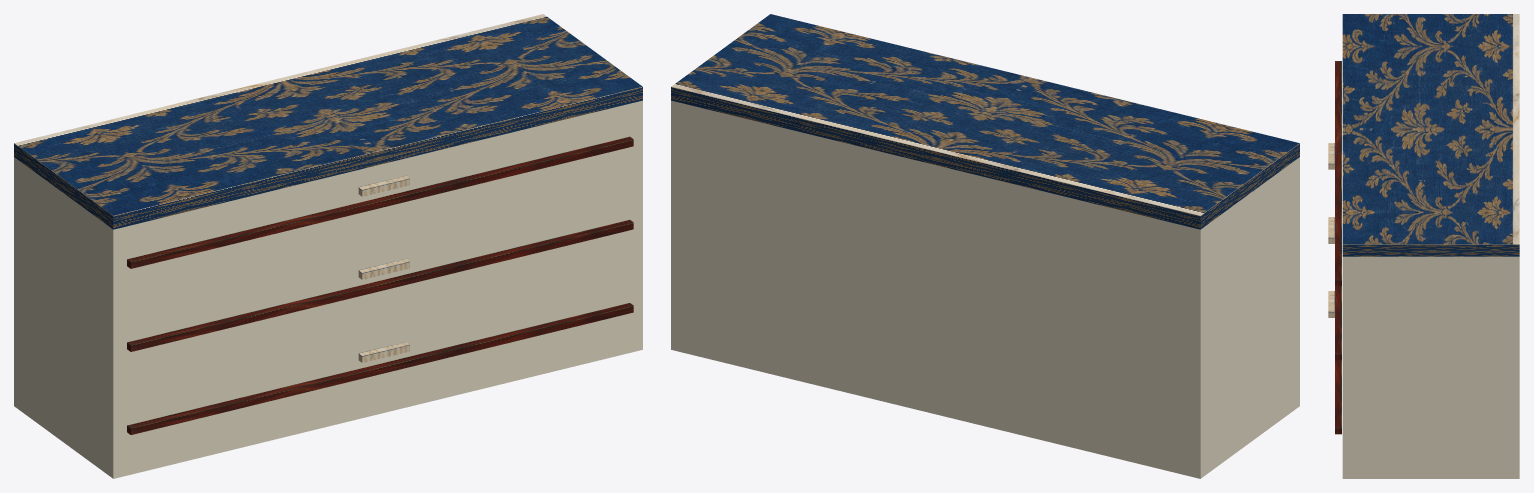
Rendered from kitchen-counter.gltf.
The picture shows the model from 3 angles, left to right: view 1: azimuth 30°, elevation 25°; view 2: azimuth 150°, elevation 25°; view 3: azimuth 270°, elevation 25°; orthographic projection. The views are drawn at different scales.
Parts seen in each view (by area): view 1: kit:0:furniture:ivory:, kit:0:furniture:marble:, kit:0:furniture:bronze:, kit:0:furniture:gold:; view 2: kit:0:furniture:ivory:, kit:0:furniture:marble:; view 3: kit:0:furniture:marble:, kit:0:furniture:ivory:, kit:0:furniture:bronze:, kit:0:furniture:gold:.
Boxes of the visible parts, x1=… form: kit:0:furniture:ivory:: x1=14, y1=100, x2=642, y2=478; kit:0:furniture:marble:: x1=14, y1=14, x2=642, y2=229; kit:0:furniture:bronze:: x1=127, y1=136, x2=633, y2=434; kit:0:furniture:gold:: x1=358, y1=175, x2=409, y2=362; kit:0:furniture:ivory:: x1=671, y1=100, x2=1299, y2=478; kit:0:furniture:marble:: x1=671, y1=14, x2=1299, y2=229; kit:0:furniture:marble:: x1=1342, y1=14, x2=1519, y2=256; kit:0:furniture:ivory:: x1=1342, y1=256, x2=1519, y2=478; kit:0:furniture:bronze:: x1=1335, y1=61, x2=1341, y2=434; kit:0:furniture:gold:: x1=1328, y1=143, x2=1334, y2=317.
Bounding box in the file's own units: 2 × 0.95 × 0.7025.
Materials: 4 (3 with a texture image).
